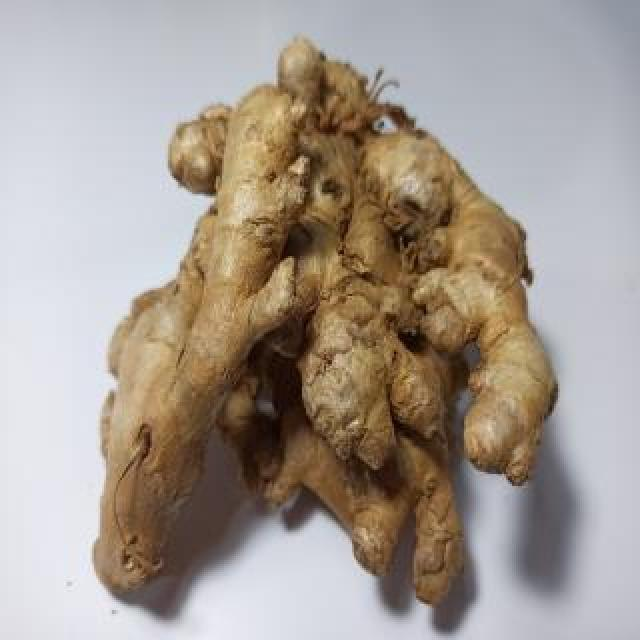ginger: (98, 46, 555, 614)
